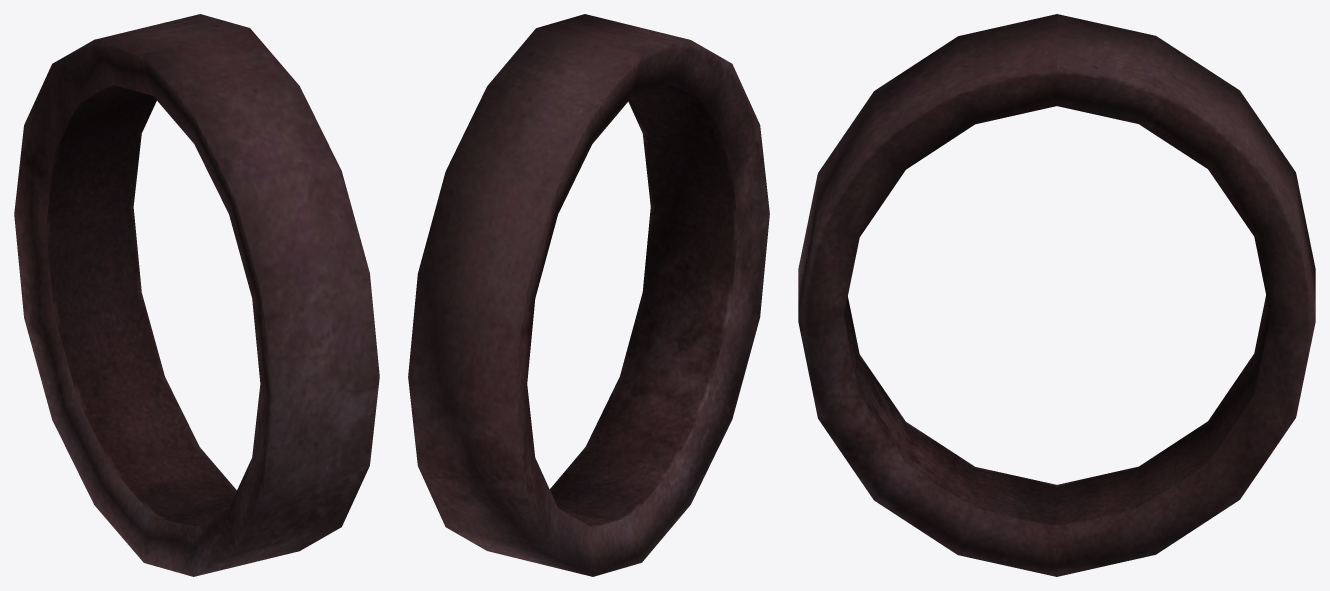
Rendered from DynamoAnilloExt.fbx.
3 views of the same model, side by side, from view 1: azimuth 30°, elevation 25°; view 2: azimuth 150°, elevation 25°; view 3: azimuth 270°, elevation 25° (orthographic).
Visible parts, largest first — view 1: Sphere.008; view 2: Sphere.008; view 3: Sphere.008.
Part boxes in pixels (left/top/right/bottom): Sphere.008: left=14, top=14, right=379, bottom=576; Sphere.008: left=408, top=14, right=769, bottom=576; Sphere.008: left=798, top=14, right=1315, bottom=576.
Bounding box in the file's own units: 0.5114 × 2.31 × 2.12.
